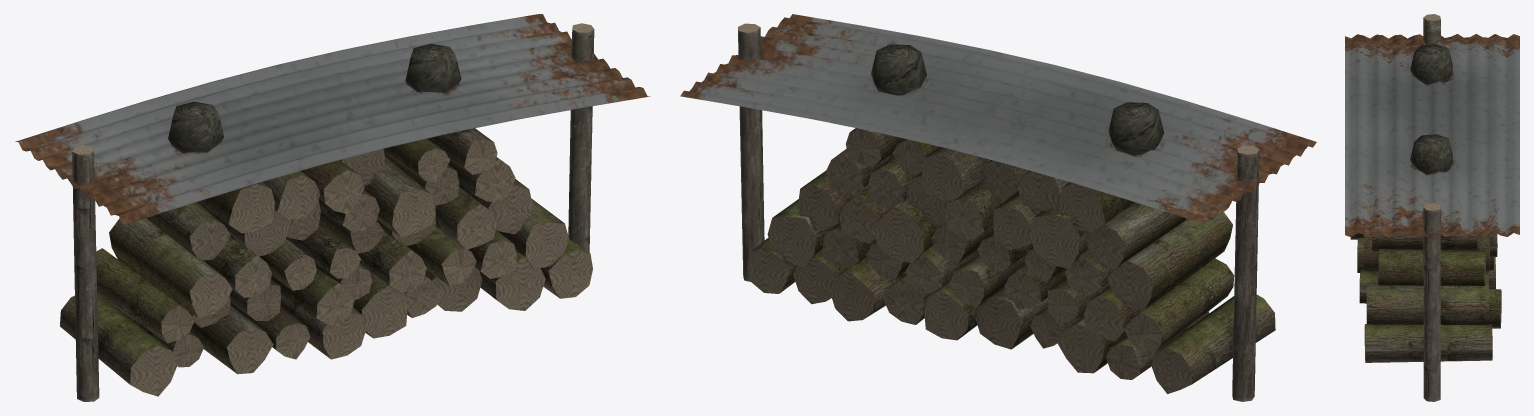
File: firewood.glb
The picture shows the model from 3 angles, left to right: view 1: azimuth 30°, elevation 25°; view 2: azimuth 150°, elevation 25°; view 3: azimuth 270°, elevation 25°; orthographic projection. The views are drawn at different scales.
Parts seen in each view (by area): view 1: firewood; view 2: firewood; view 3: firewood.
Part boxes in pixels (x1,y1,x2,y2): firewood: [15, 14, 650, 401]; firewood: [680, 14, 1316, 401]; firewood: [1345, 14, 1519, 401].
Size of the model in its own units: 2.1 by 1 by 0.78.
Materials: 1 (1 with a texture image).
